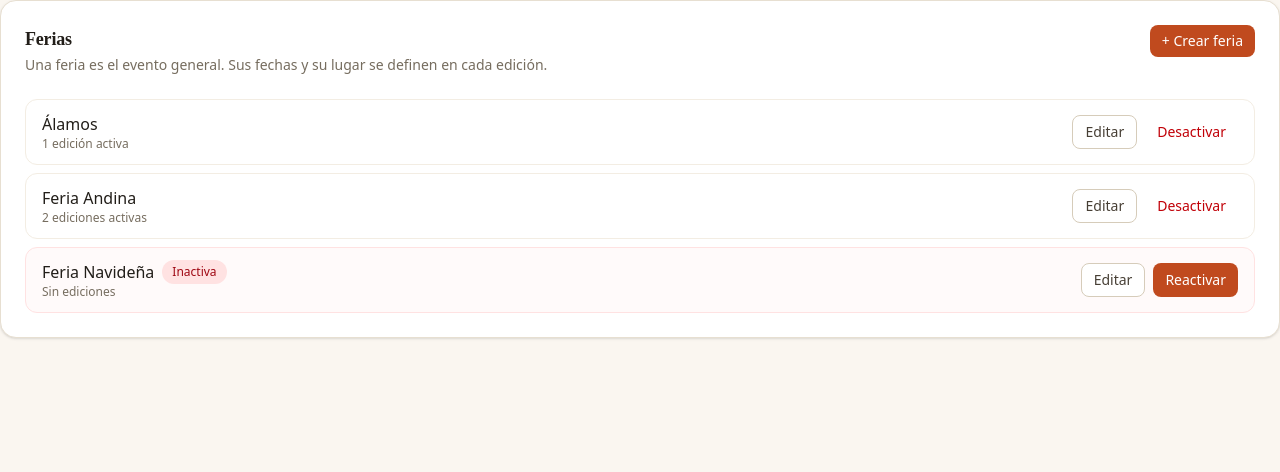
Test: GestionFerias: crear › crea la feria a nombre del administrador, avisa, cierra el formulario y refresca
The width and height of the screenshot is (1280, 472).
Click the button "+ Crear feria". click: (1202, 41)
box: [1150, 25, 1255, 57]
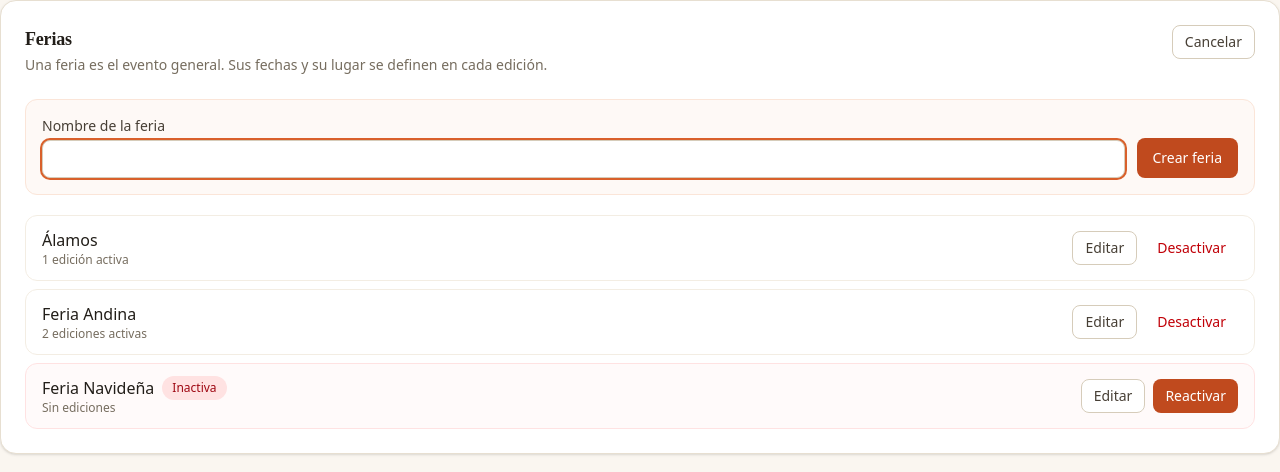
Type "  Feria Nueva  " into the field labelled "Nombre de la feria". click: (583, 159)
box: [42, 140, 1124, 178]
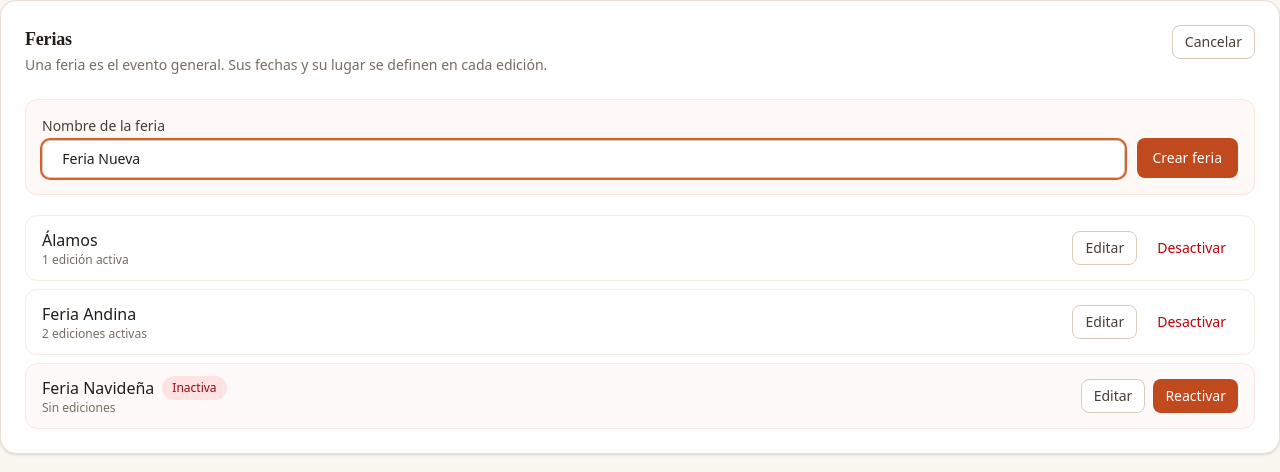
Click the button "Crear feria". click: (1187, 158)
box: [1136, 138, 1238, 178]
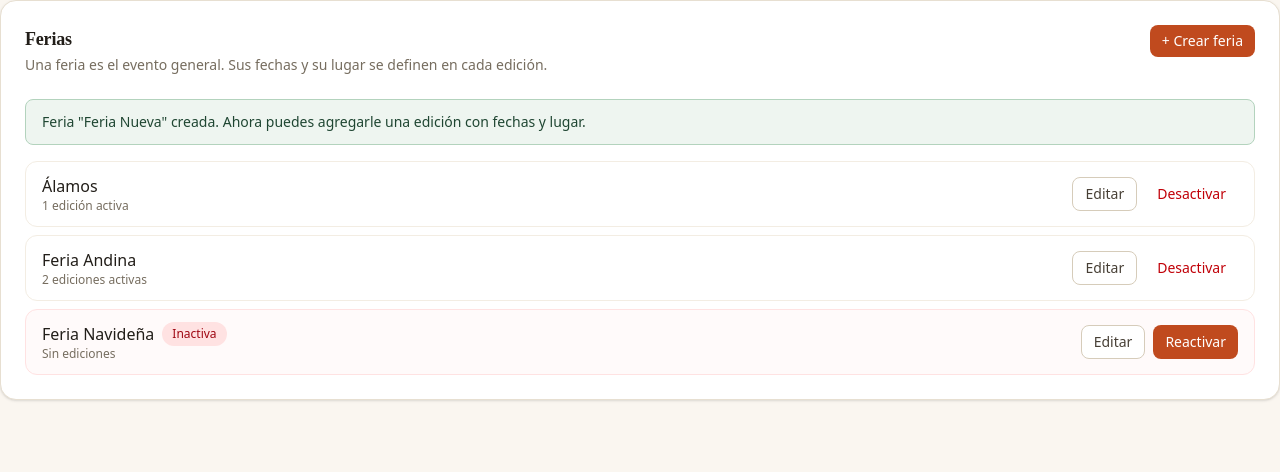
Check: the text "Feria \"Feria Nueva\" creada" is shown, box [42, 112, 586, 131]
Check: the label labelled "Nombre de la feria" is gone
